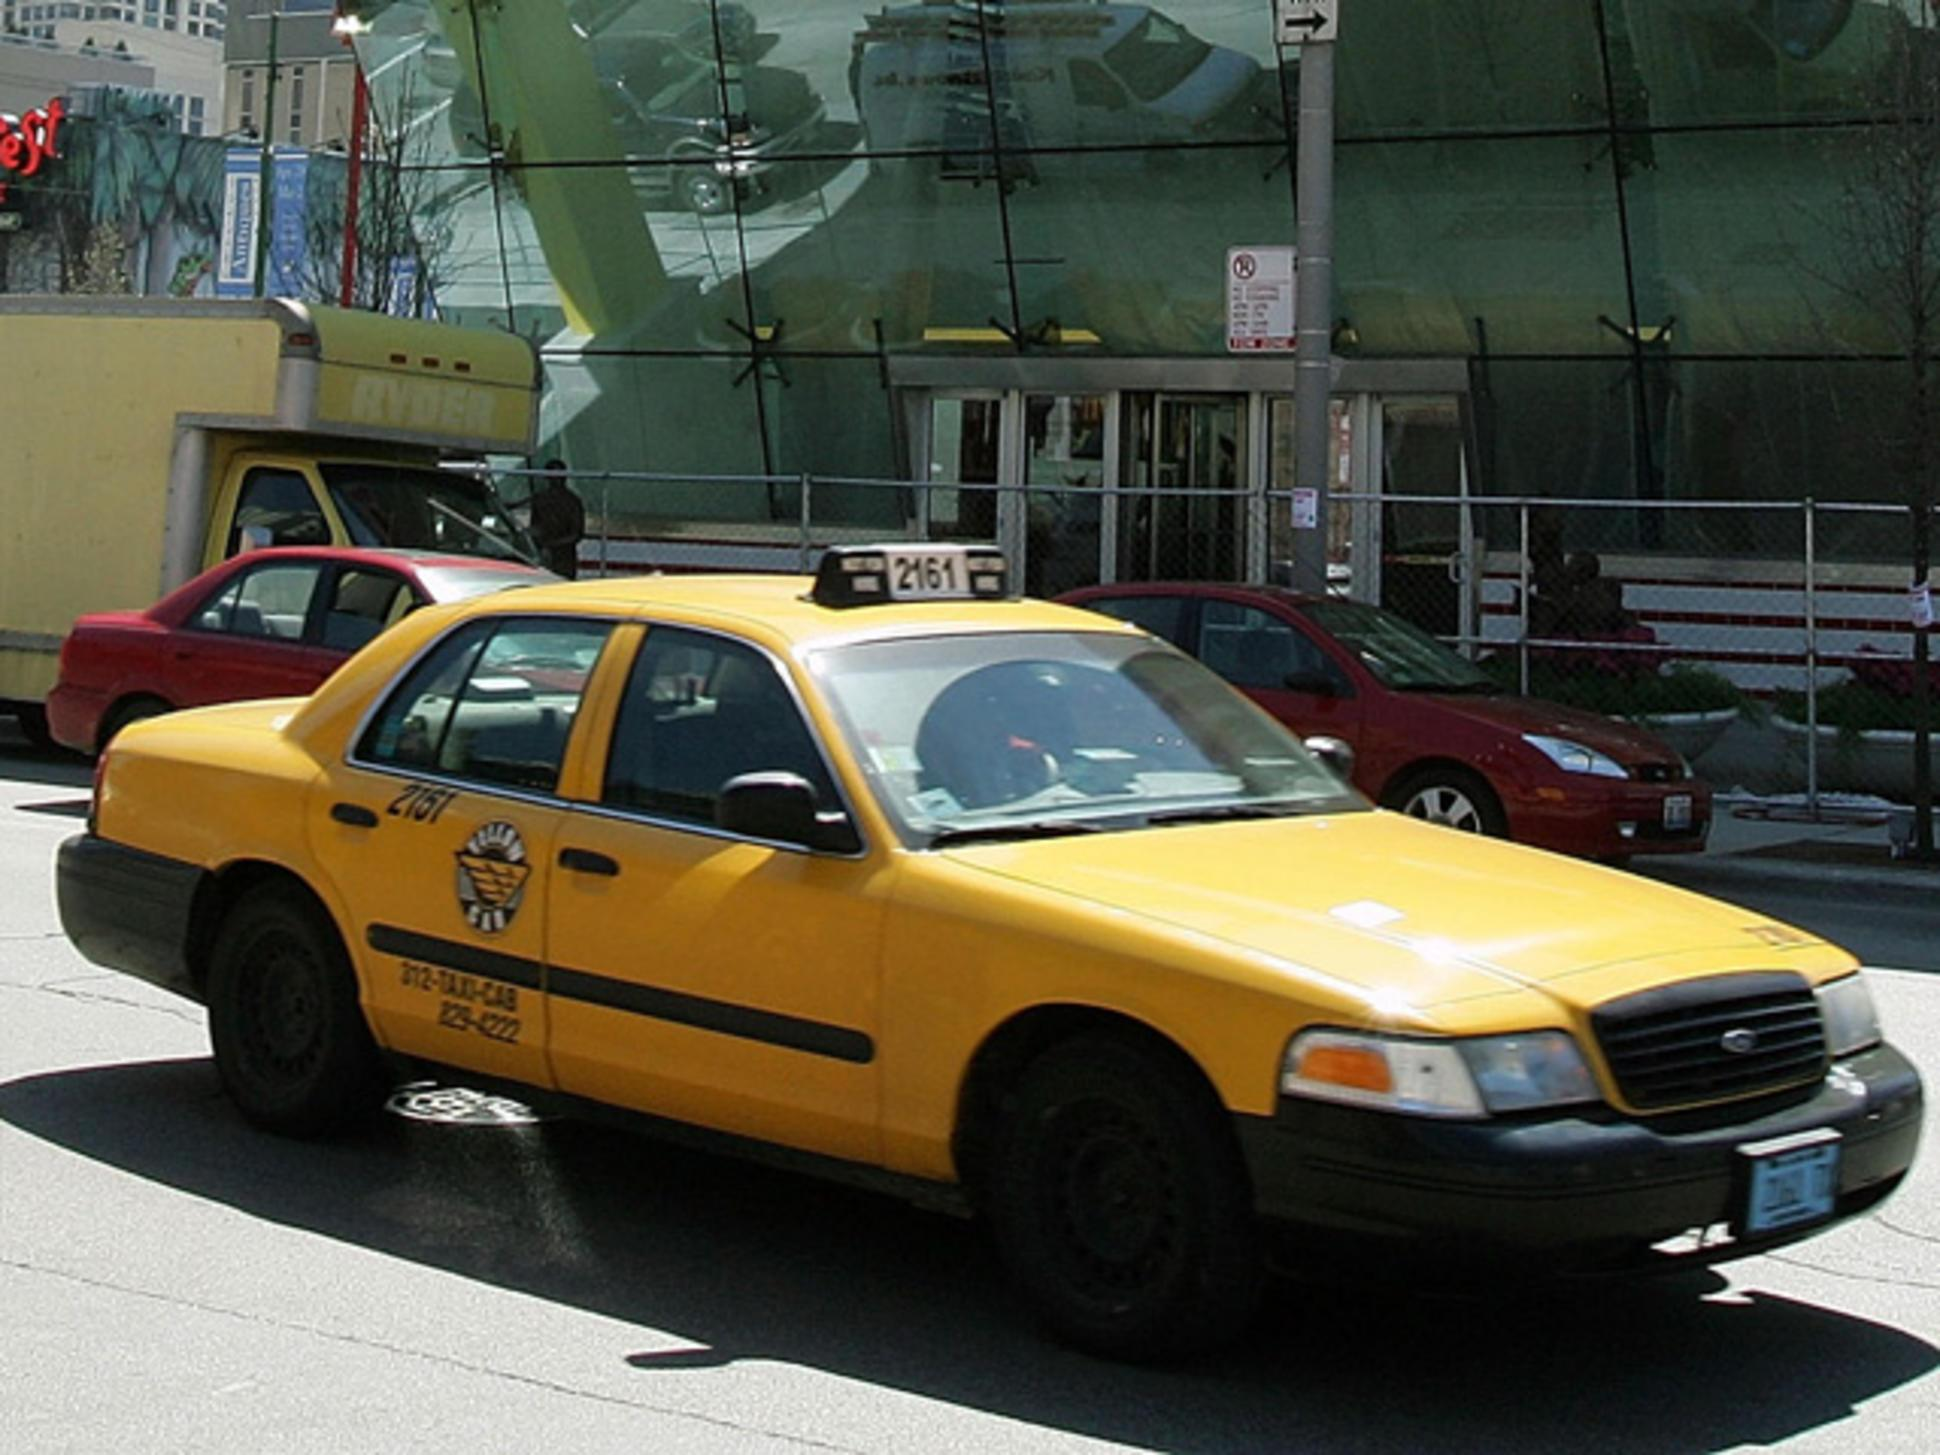taxi: (144, 541, 1858, 1455)
